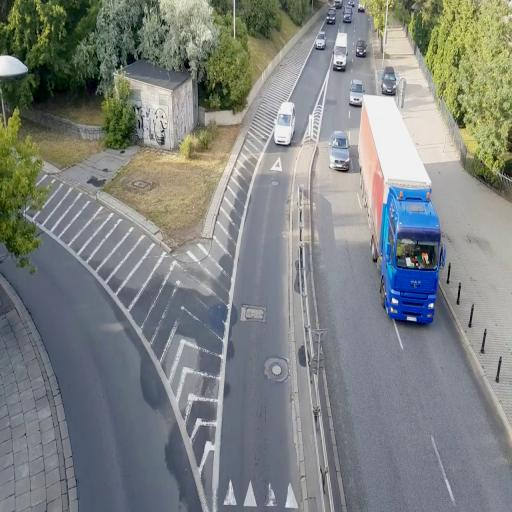vehicle: (357, 93, 445, 326), (274, 100, 296, 147), (328, 130, 350, 172), (333, 32, 348, 70), (381, 67, 398, 95), (348, 79, 364, 108), (332, 47, 348, 71), (355, 40, 368, 57), (314, 32, 326, 50), (325, 13, 336, 26)
